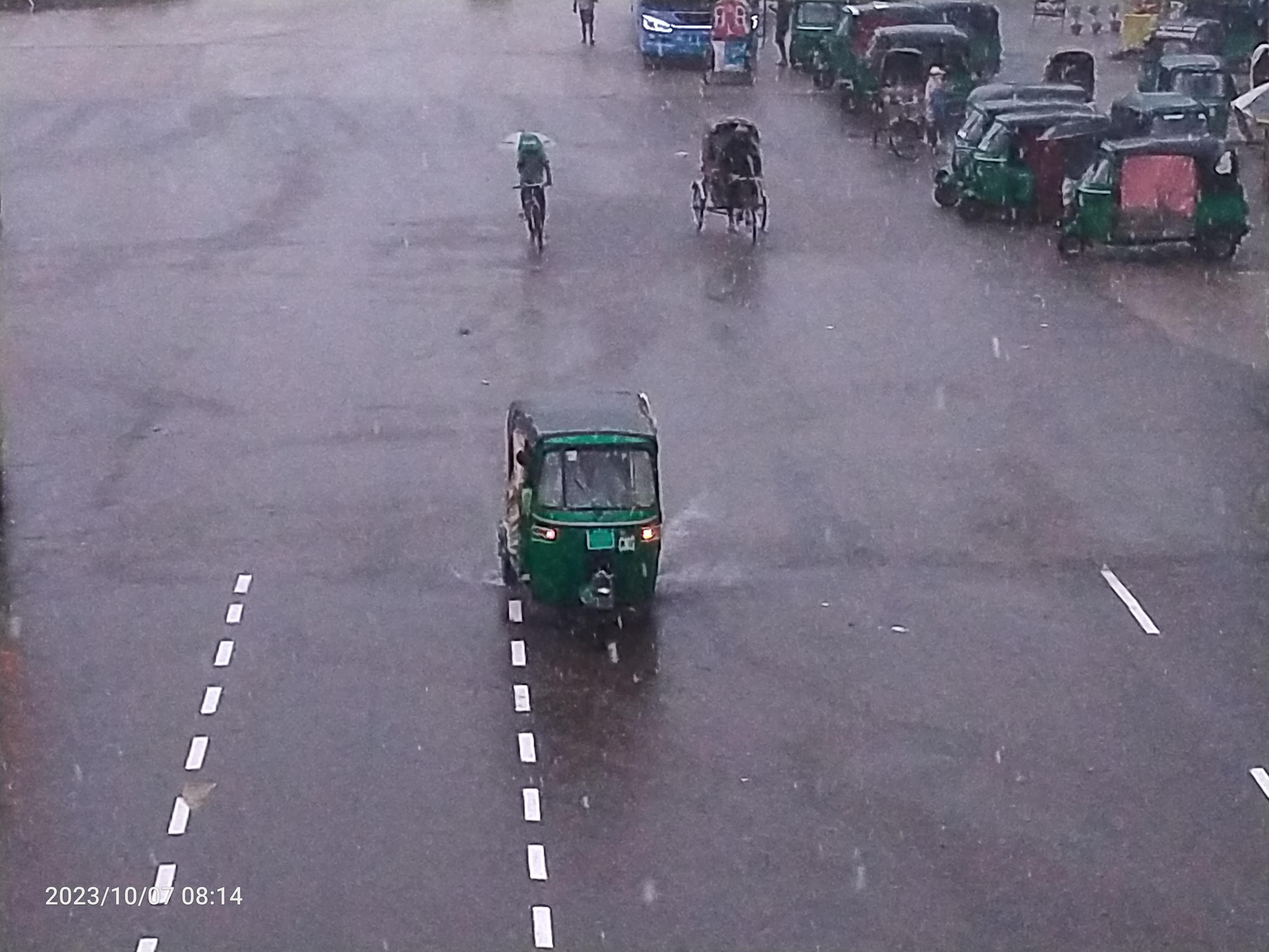Bike: (488, 116, 591, 275)
Bus: (630, 0, 772, 74)
Car: (668, 86, 790, 266), (702, 0, 773, 102)
